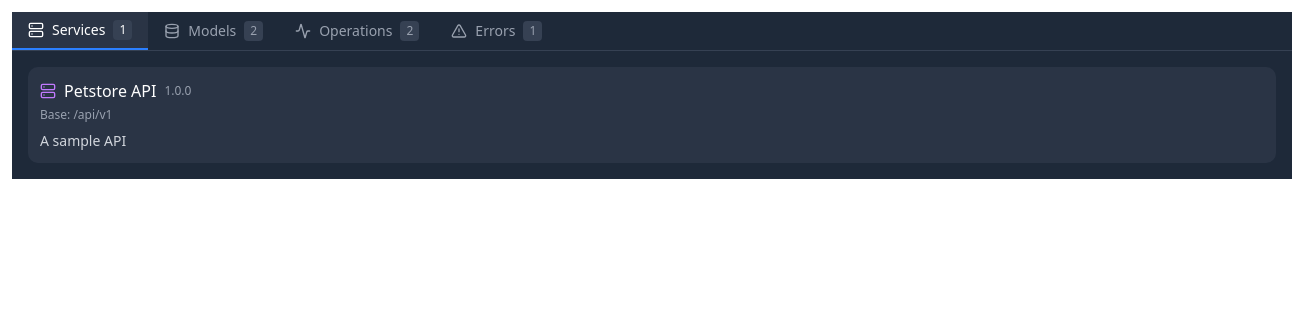
PreviewPane › Models Display › should display model names
// Click Models tab
Click the tab "Models 2" at [214, 31], box [148, 12, 279, 50]
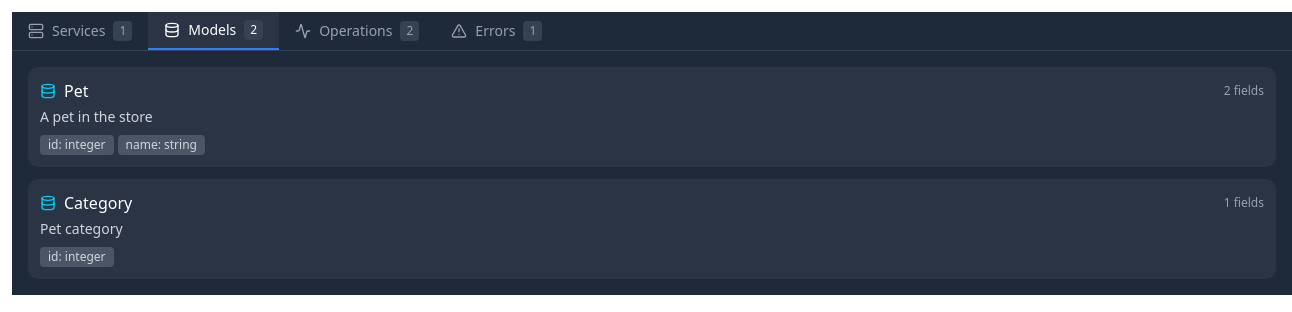
Expected: the text "Pet" is shown, [64, 79, 88, 103]
Expected: the text "Category" is shown, [64, 191, 132, 215]
